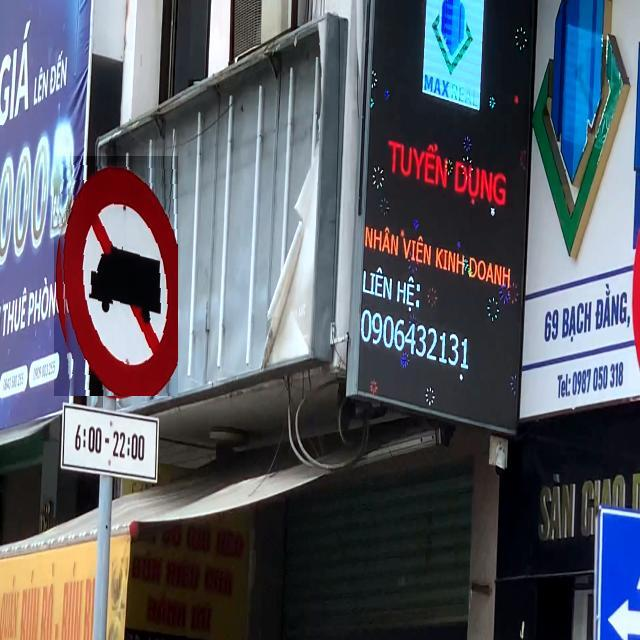P-106a: (54, 157, 178, 397)
